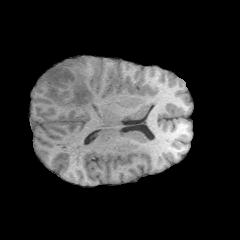glioma: (39, 61, 96, 107)
